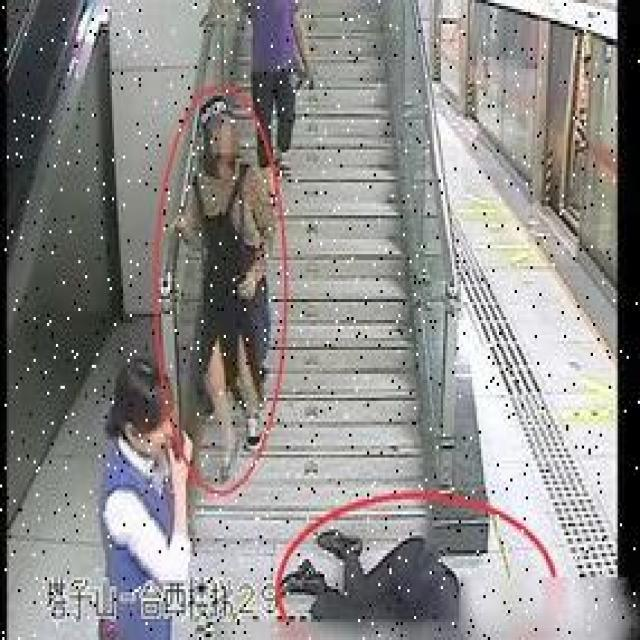fall: (286, 524, 478, 612)
